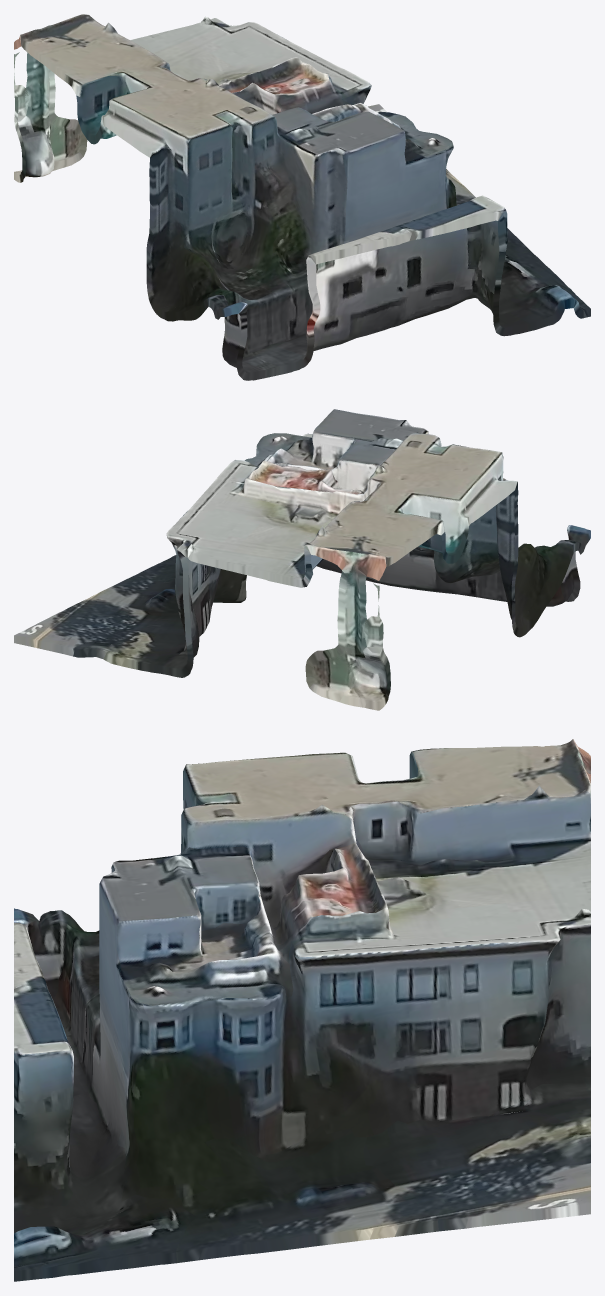
File: z20-167725-405195-h0-yup-uvflip-v3-world.glb
3 views of the same model, one above another, from view 1: azimuth 30°, elevation 25°; view 2: azimuth 150°, elevation 25°; view 3: azimuth 270°, elevation 25° (orthographic). The views are drawn at different scales.
Size of the model in its own units: 30.16 by 17.64 by 30.32.
1 material, 1 textured.
